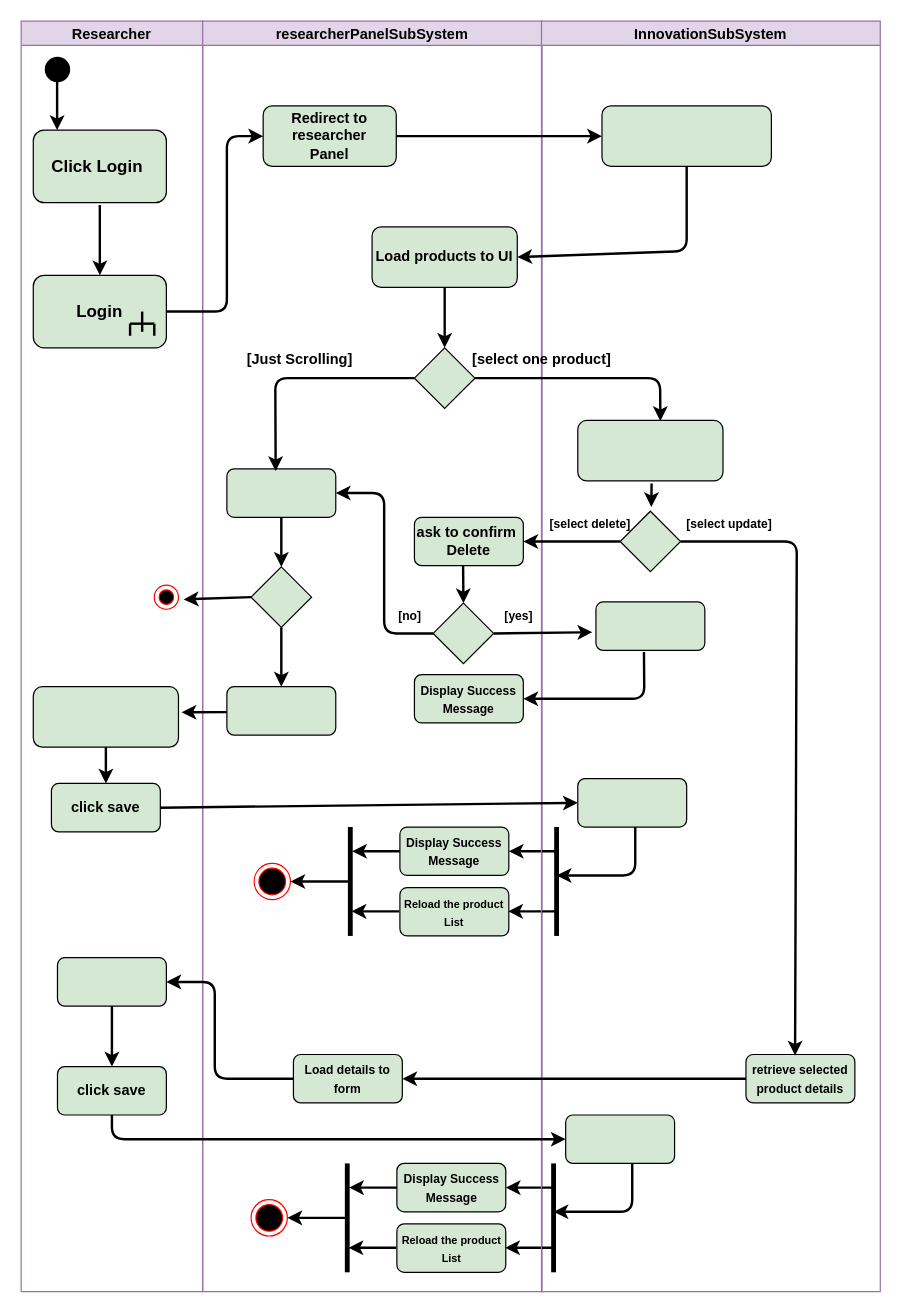
The diagram is 901 pixels wide and 1313 high, and some of its shapes have lost their labels. The centre of each missing label's shape, as x and y in pixels:
"Add details of innovative product" goes at (105,716).
"ask to choose operation" goes at (650,450).
"Edit current details" goes at (111,981).
"Load Form" goes at (281,710).
"Remove from DB" goes at (650,625).
"Retrieve All Innovative Products from DB" goes at (686,135).
"Save to DB" goes at (632,802).
"Update DB" goes at (619,1138).
"View All" goes at (281,492).
